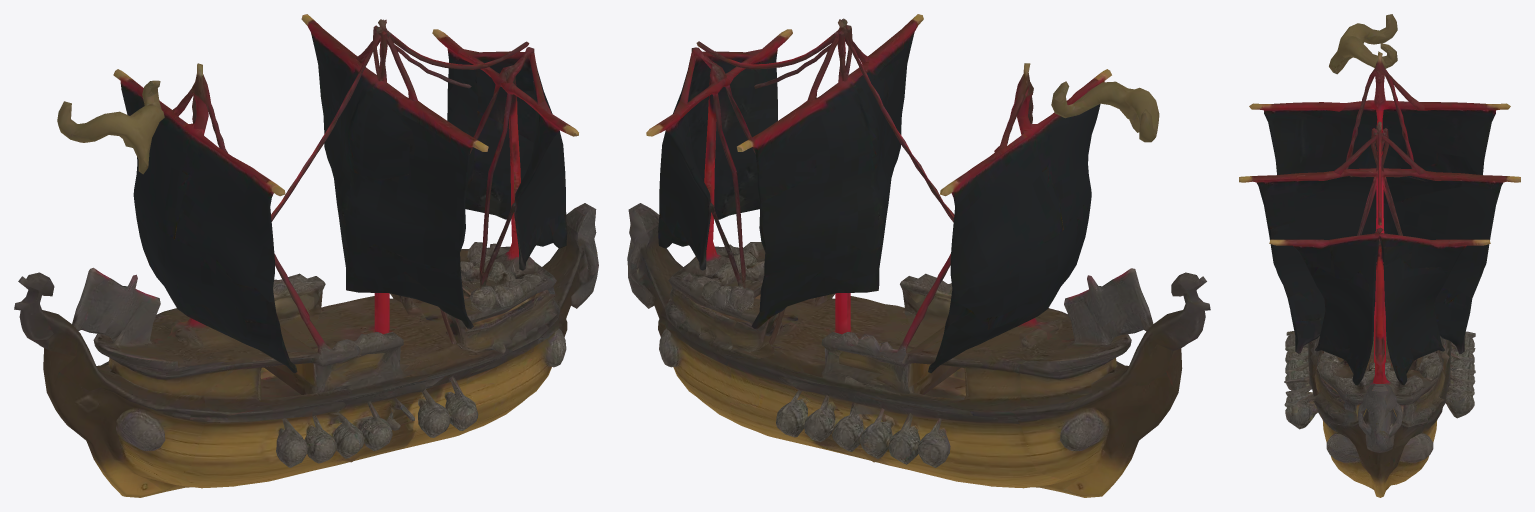
File: ship-warjunk.opt.glb
The picture shows the model from 3 angles, left to right: view 1: azimuth 30°, elevation 25°; view 2: azimuth 150°, elevation 25°; view 3: azimuth 270°, elevation 25°; orthographic projection. The views are drawn at different scales.
Size of the model in its own units: 1.9 by 1.33 by 1.02.
Materials: 1 (1 with a texture image).
